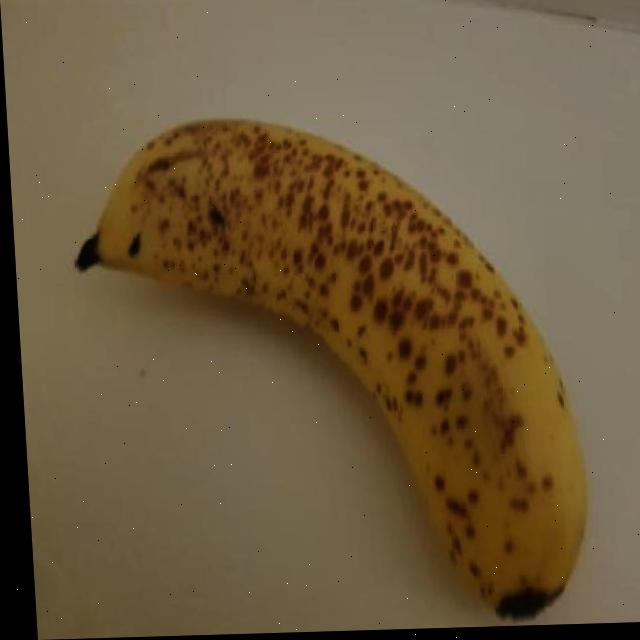banana: (65, 106, 595, 637)
